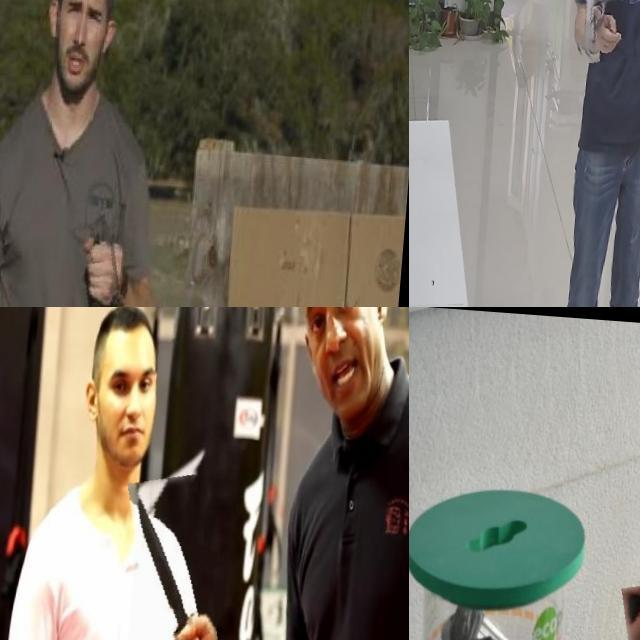-: (131, 469, 240, 640), (73, 217, 141, 307)
gun-knife-thesis - v11 Yolov5 augmented: (573, 0, 640, 60)
